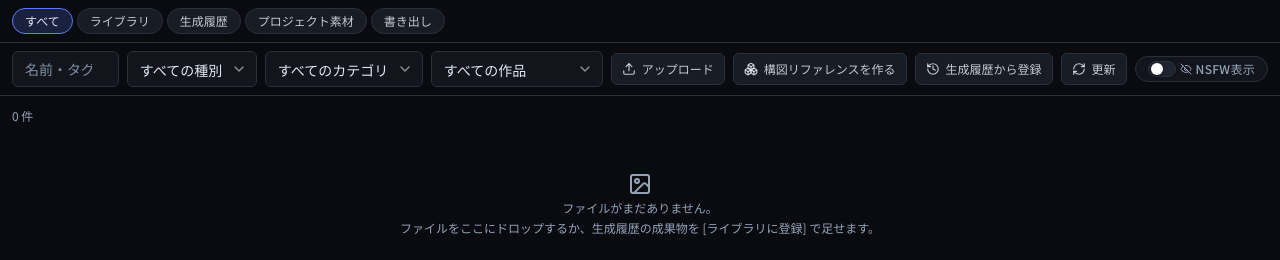
LibraryView › 空のときは出どころと条件で案内を出し分ける
Expected: the text "ファイルがまだありません。" is shown, [562,200,718,216]
Click the tab "ライブラリ": (120, 21) [77,8,163,34]
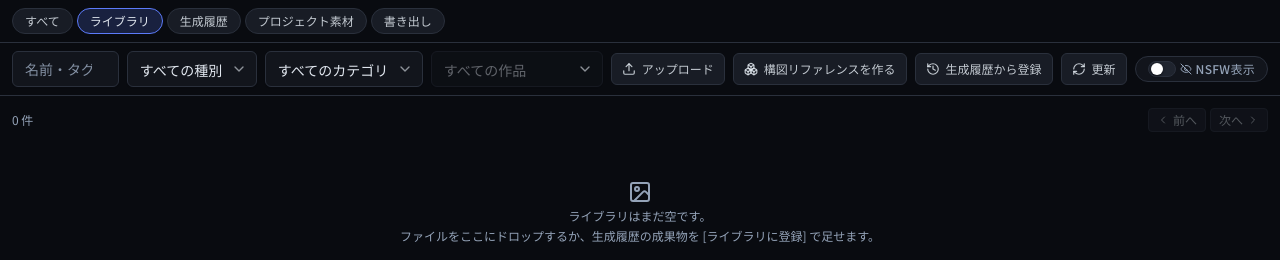
Now the text "ライブラリはまだ空です。" is shown, box [569,208,711,224]
Click the tab "生成履歴": (204, 21) [167,8,241,34]
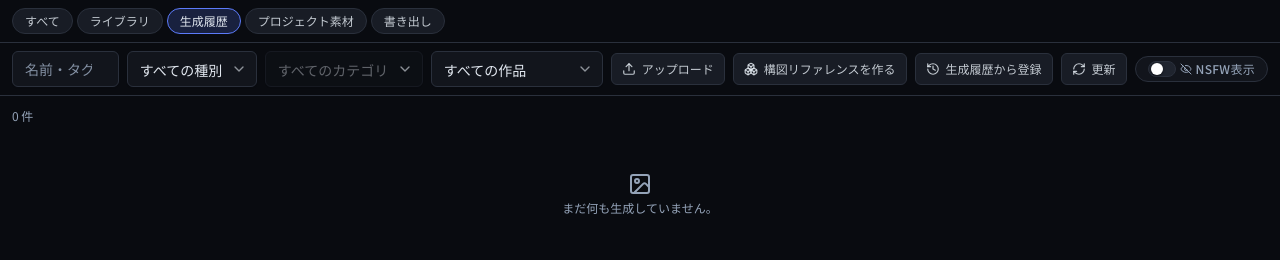
Now the text "まだ何も生成していません。" is shown, box [562,200,718,216]
Click the tab "プロジェクト素材": (306, 21) [245,8,367,34]
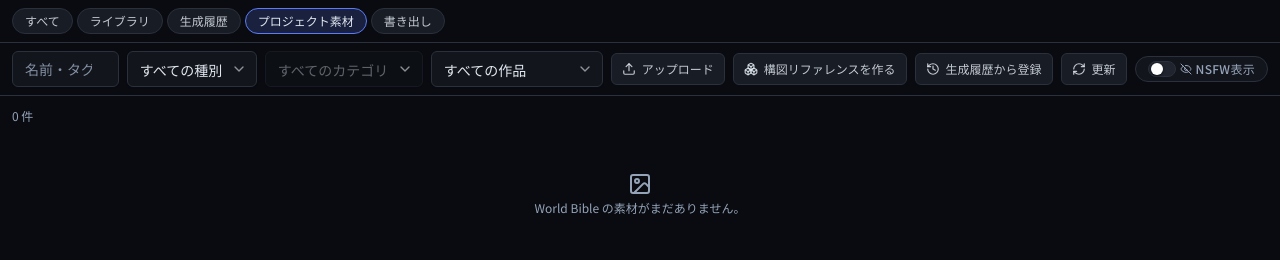
Now the text "World Bible の素材がまだありません。" is shown, box [534,200,746,216]
Click the tab "書き出し": (408, 21) [371,8,445,34]
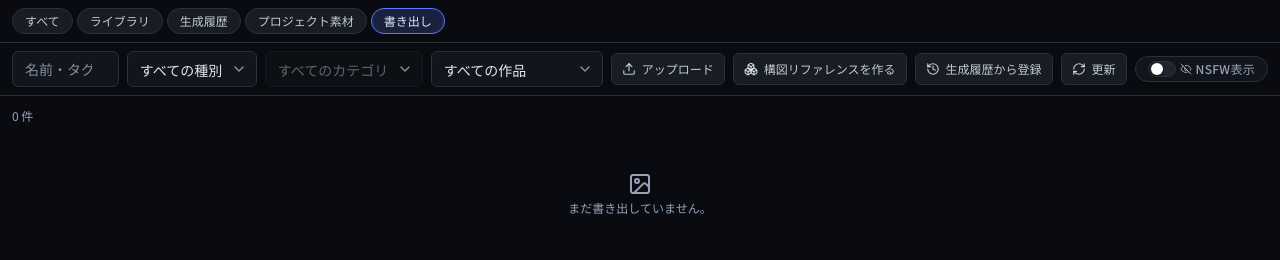
Now the text "まだ書き出していません。" is shown, box [568,200,712,216]
In the search field named "ファイルを検索": (65, 69) [12,51,119,87], type "ghost"
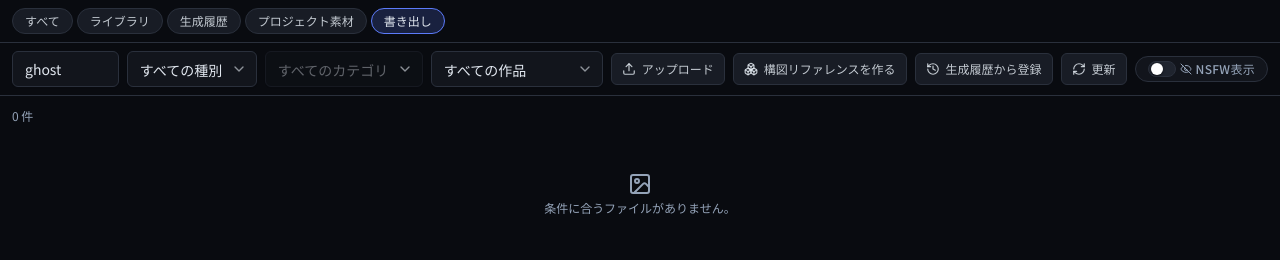
Now the text "条件に合うファイルがありません。" is shown, box [544,200,736,216]
